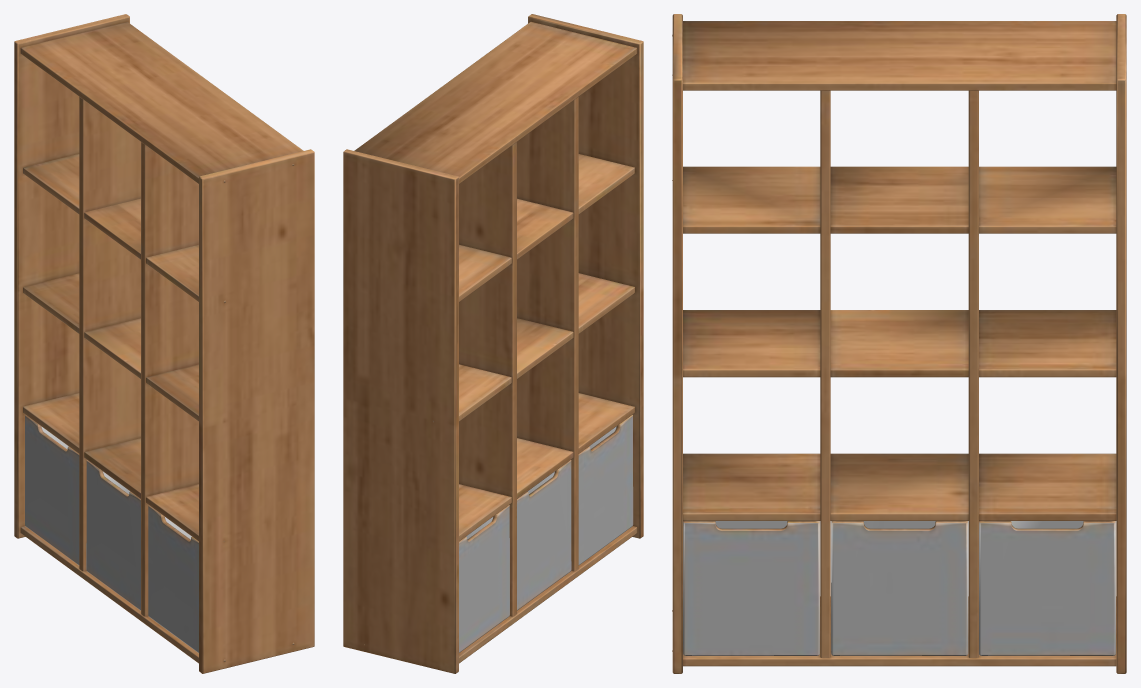
Rendered from wooden_display_shelves_01.glb.
3 views of the same model, side by side, from view 1: azimuth 30°, elevation 25°; view 2: azimuth 150°, elevation 25°; view 3: azimuth 270°, elevation 25° (orthographic). The views are drawn at different scales.
Parts seen in each view (by area): view 1: wooden_display_shelves_01, wooden_display_shelves_01_drawer_01, wooden_display_shelves_01_drawer_02, wooden_display_shelves_01_drawer_03; view 2: wooden_display_shelves_01, wooden_display_shelves_01_drawer_03, wooden_display_shelves_01_drawer_02, wooden_display_shelves_01_drawer_01; view 3: wooden_display_shelves_01, wooden_display_shelves_01_drawer_02, wooden_display_shelves_01_drawer_01, wooden_display_shelves_01_drawer_03.
Boxes of the visible parts, box(x1,y1,x2,y2) form: wooden_display_shelves_01: box(14, 14, 314, 673); wooden_display_shelves_01_drawer_01: box(25, 415, 79, 565); wooden_display_shelves_01_drawer_02: box(86, 460, 140, 610); wooden_display_shelves_01_drawer_03: box(148, 505, 198, 652); wooden_display_shelves_01: box(343, 14, 643, 673); wooden_display_shelves_01_drawer_03: box(578, 415, 633, 565); wooden_display_shelves_01_drawer_02: box(517, 460, 571, 610); wooden_display_shelves_01_drawer_01: box(459, 505, 509, 652); wooden_display_shelves_01: box(672, 14, 1126, 673); wooden_display_shelves_01_drawer_02: box(831, 521, 968, 655); wooden_display_shelves_01_drawer_01: box(979, 521, 1115, 655); wooden_display_shelves_01_drawer_03: box(683, 521, 819, 655).
Bounding box in the file's own units: 0.3715 × 1.56 × 1.08.
1 material, 1 textured.
